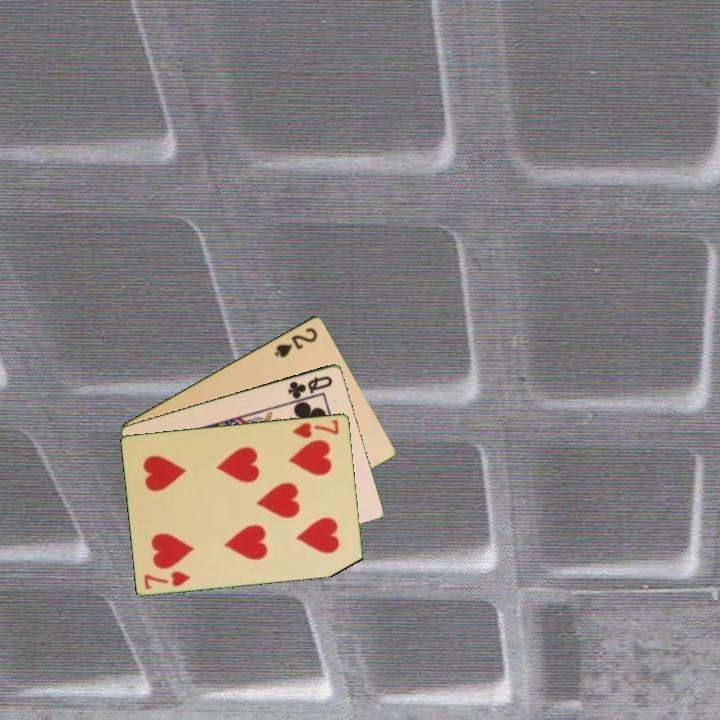2s: (271, 323, 320, 360)
7h: (141, 567, 193, 592), (289, 416, 342, 440)
Qc: (284, 372, 336, 402)
